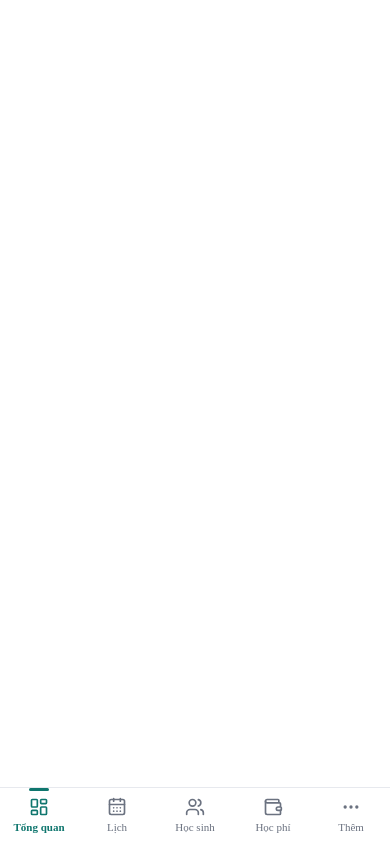
Test: BottomTabBar › Escape đóng sheet, bấm Thêm mở lại được
The width and height of the screenshot is (390, 844).
Click the button "Thêm": x=351, y=816 x1=312 y1=788 x2=389 y2=843
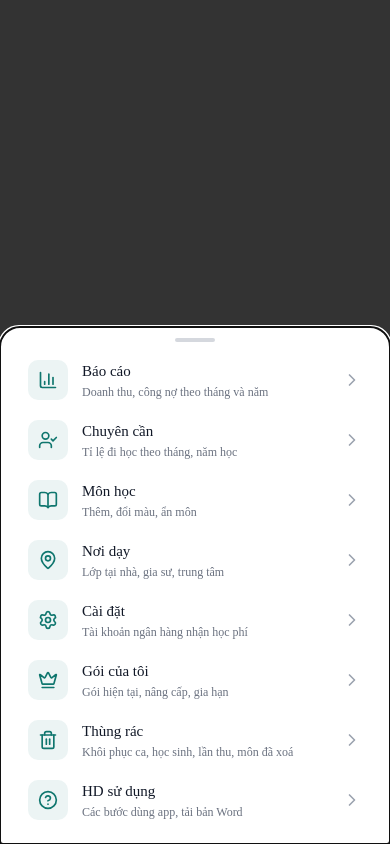
Press Escape in the dialog named "Thêm"
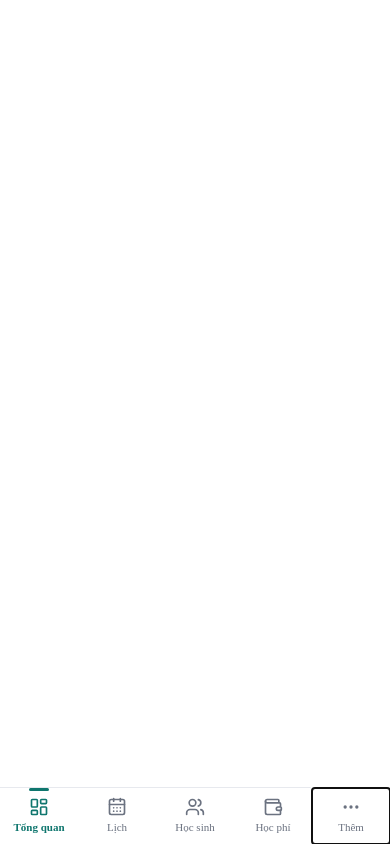
Check: the dialog is gone
Click the button "Thêm": x=351, y=816 x1=312 y1=788 x2=389 y2=843
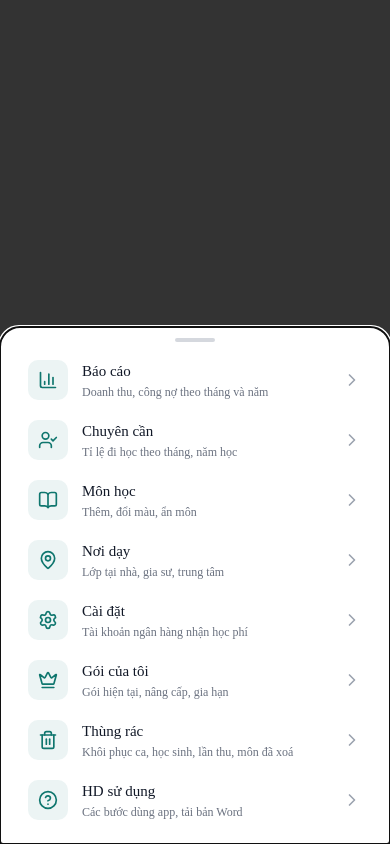
Check: the dialog named "Thêm" is shown
